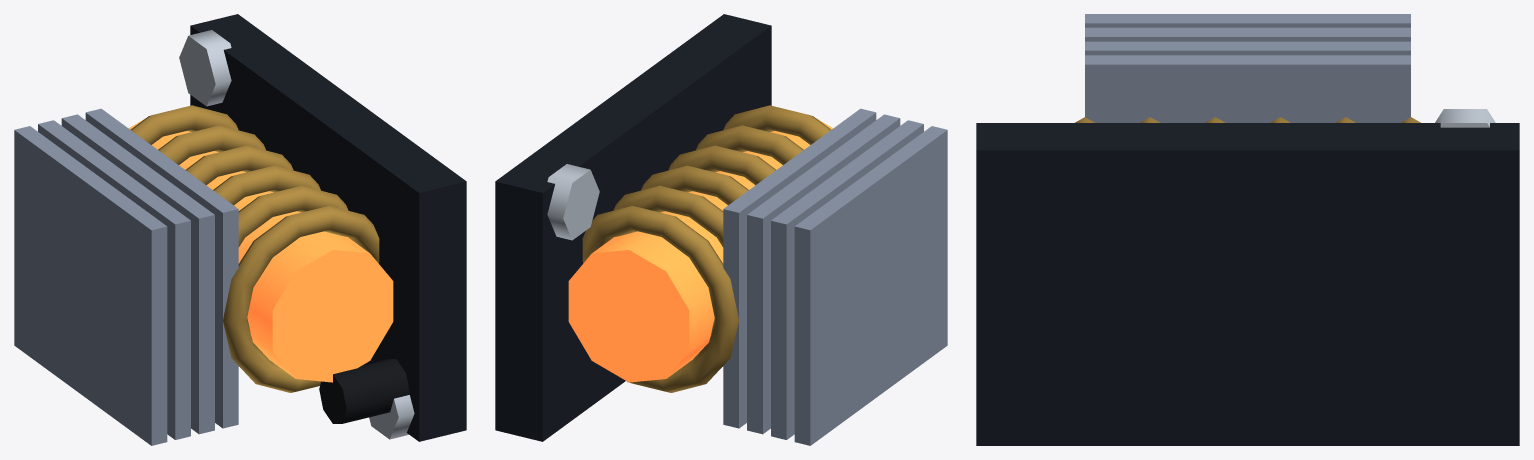
The model's file is attach_embercoil.glb.
3 renders of one model, left to right at view 1: azimuth 30°, elevation 25°; view 2: azimuth 150°, elevation 25°; view 3: azimuth 270°, elevation 25°, orthographic. The views are drawn at different scales.
Visible parts, largest first — view 1: attach_embercoil_plate, attach_embercoil_fin3, attach_embercoil_core, attach_embercoil_fin1, attach_embercoil_fin2, attach_embercoil_wind5, attach_embercoil_fin0, attach_embercoil_screws, attach_embercoil_hose, attach_embercoil_wind4, attach_embercoil_wind2, attach_embercoil_wind3 (+2 smaller); view 2: attach_embercoil_plate, attach_embercoil_fin3, attach_embercoil_core, attach_embercoil_fin1, attach_embercoil_fin2, attach_embercoil_wind0, attach_embercoil_fin0, attach_embercoil_screws, attach_embercoil_wind1, attach_embercoil_wind2, attach_embercoil_wind3, attach_embercoil_wind4 (+1 smaller); view 3: attach_embercoil_plate, attach_embercoil_fin0, attach_embercoil_fin1, attach_embercoil_fin2, attach_embercoil_fin3, attach_embercoil_screws.
Boxes of the visible parts, left/top/right/bottom form: attach_embercoil_plate: left=190, top=14, right=466, bottom=441; attach_embercoil_fin3: left=14, top=126, right=167, bottom=445; attach_embercoil_core: left=129, top=119, right=393, bottom=382; attach_embercoil_fin1: left=61, top=114, right=214, bottom=434; attach_embercoil_fin2: left=38, top=120, right=190, bottom=439; attach_embercoil_wind5: left=223, top=206, right=379, bottom=392; attach_embercoil_fin0: left=85, top=108, right=238, bottom=428; attach_embercoil_screws: left=179, top=30, right=414, bottom=439; attach_embercoil_hose: left=319, top=359, right=409, bottom=423; attach_embercoil_wind4: left=238, top=185, right=349, bottom=366; attach_embercoil_wind2: left=186, top=145, right=293, bottom=185; attach_embercoil_wind3: left=213, top=165, right=320, bottom=205; attach_embercoil_plate: left=495, top=14, right=771, bottom=441; attach_embercoil_fin3: left=794, top=126, right=947, bottom=445; attach_embercoil_core: left=568, top=119, right=832, bottom=382; attach_embercoil_fin1: left=747, top=114, right=900, bottom=434; attach_embercoil_fin2: left=771, top=120, right=923, bottom=439; attach_embercoil_wind0: left=582, top=206, right=738, bottom=392; attach_embercoil_fin0: left=723, top=108, right=876, bottom=428; attach_embercoil_screws: left=547, top=164, right=599, bottom=240; attach_embercoil_wind1: left=612, top=185, right=723, bottom=366; attach_embercoil_wind2: left=641, top=165, right=748, bottom=205; attach_embercoil_wind3: left=668, top=145, right=775, bottom=185; attach_embercoil_wind4: left=696, top=125, right=803, bottom=164; attach_embercoil_plate: left=976, top=123, right=1519, bottom=445; attach_embercoil_fin0: left=1085, top=55, right=1410, bottom=122; attach_embercoil_fin1: left=1085, top=41, right=1410, bottom=55; attach_embercoil_fin2: left=1085, top=27, right=1410, bottom=41; attach_embercoil_fin3: left=1085, top=14, right=1410, bottom=27; attach_embercoil_screws: left=1435, top=109, right=1495, bottom=127.
Size of the model in its own units: 0.034 by 0.0309 by 0.05.
